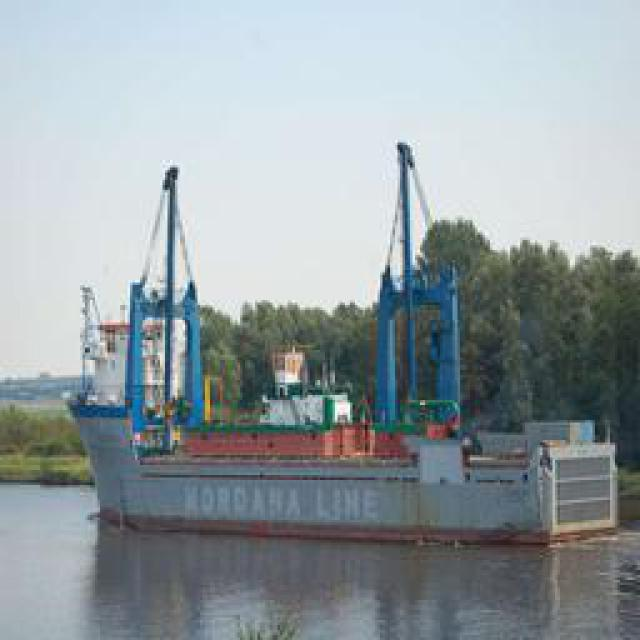Ship: (71, 126, 594, 524)
